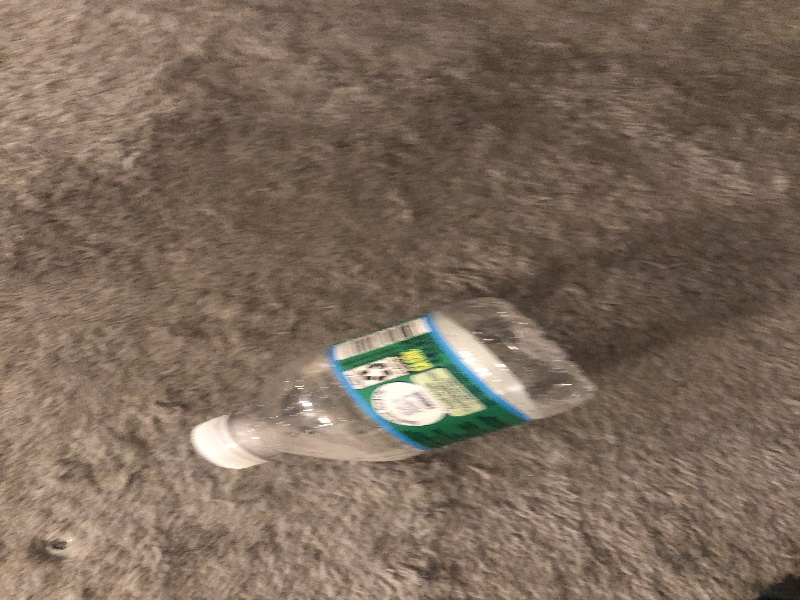plastic: (181, 299, 605, 470)
